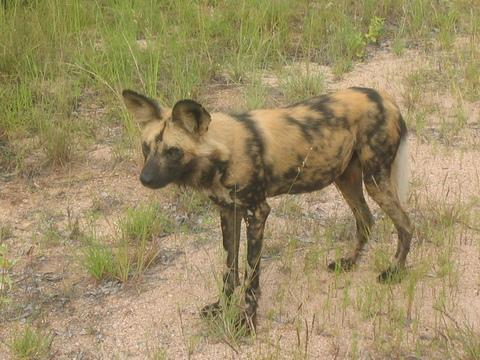African_hunting_dog: (121, 87, 414, 336)
